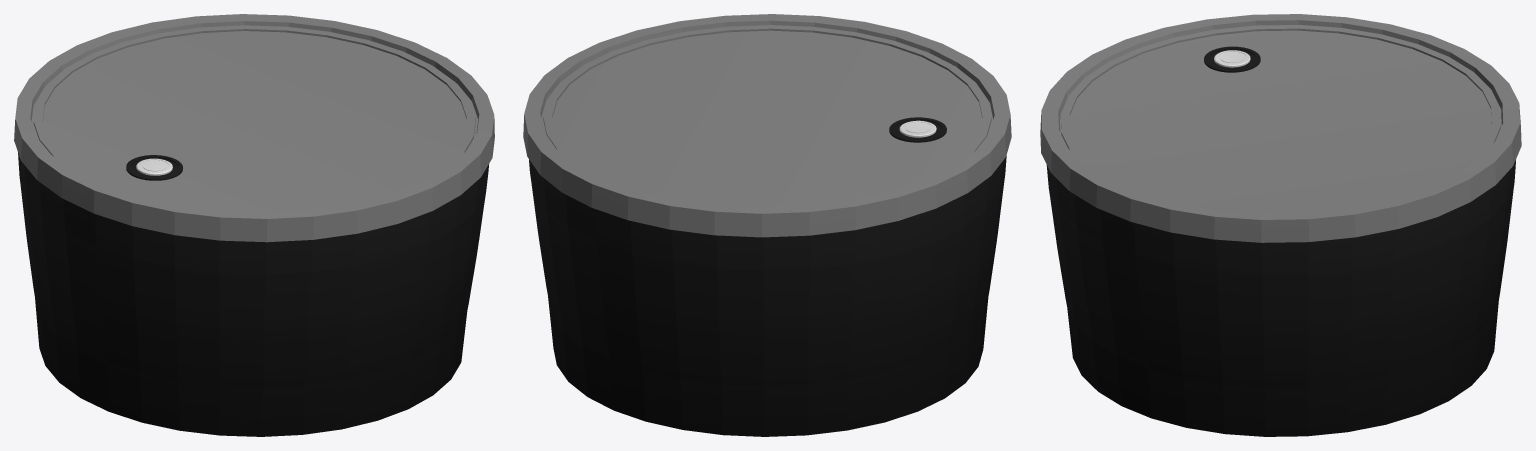
File: Small Industrial Bucket Black.fbx
The picture shows the model from 3 angles, left to right: view 1: azimuth 30°, elevation 25°; view 2: azimuth 150°, elevation 25°; view 3: azimuth 270°, elevation 25°; orthographic projection.
Visible parts, largest first — view 1: Small Industrial Bucket Black; view 2: Small Industrial Bucket Black; view 3: Small Industrial Bucket Black.
Part boxes in pixels (x1=…): Small Industrial Bucket Black: x1=14, y1=14, x2=494, y2=436; Small Industrial Bucket Black: x1=523, y1=14, x2=1011, y2=436; Small Industrial Bucket Black: x1=1040, y1=14, x2=1521, y2=436.
Size of the model in its own units: 118 by 219 by 217.
1 material, 1 textured.
